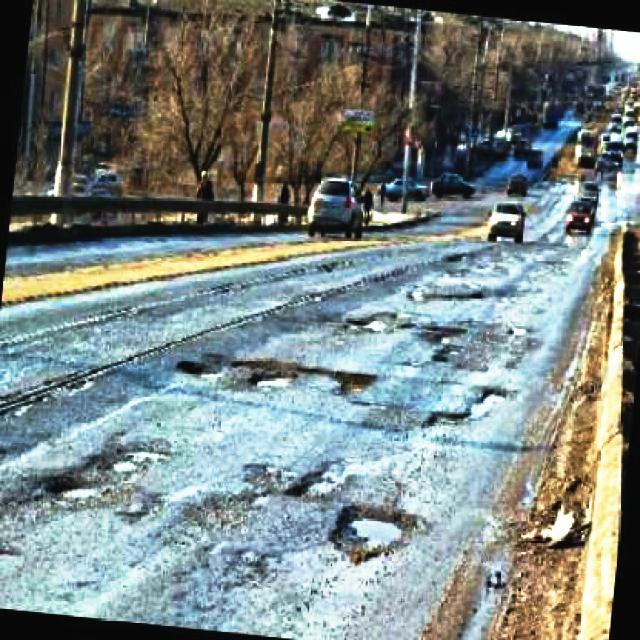pothole: (326, 503, 419, 566), (43, 468, 137, 514), (191, 489, 255, 529), (101, 440, 174, 475), (232, 358, 300, 389), (230, 548, 282, 586), (285, 469, 343, 500), (242, 460, 288, 497), (177, 351, 231, 378), (345, 310, 400, 336), (332, 371, 378, 397), (422, 411, 472, 432), (431, 343, 466, 362), (478, 388, 508, 406)
